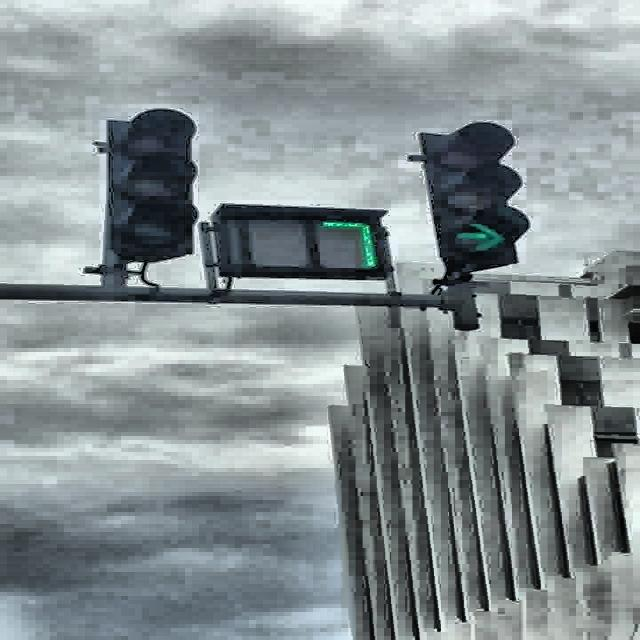green: (416, 120, 530, 270)
